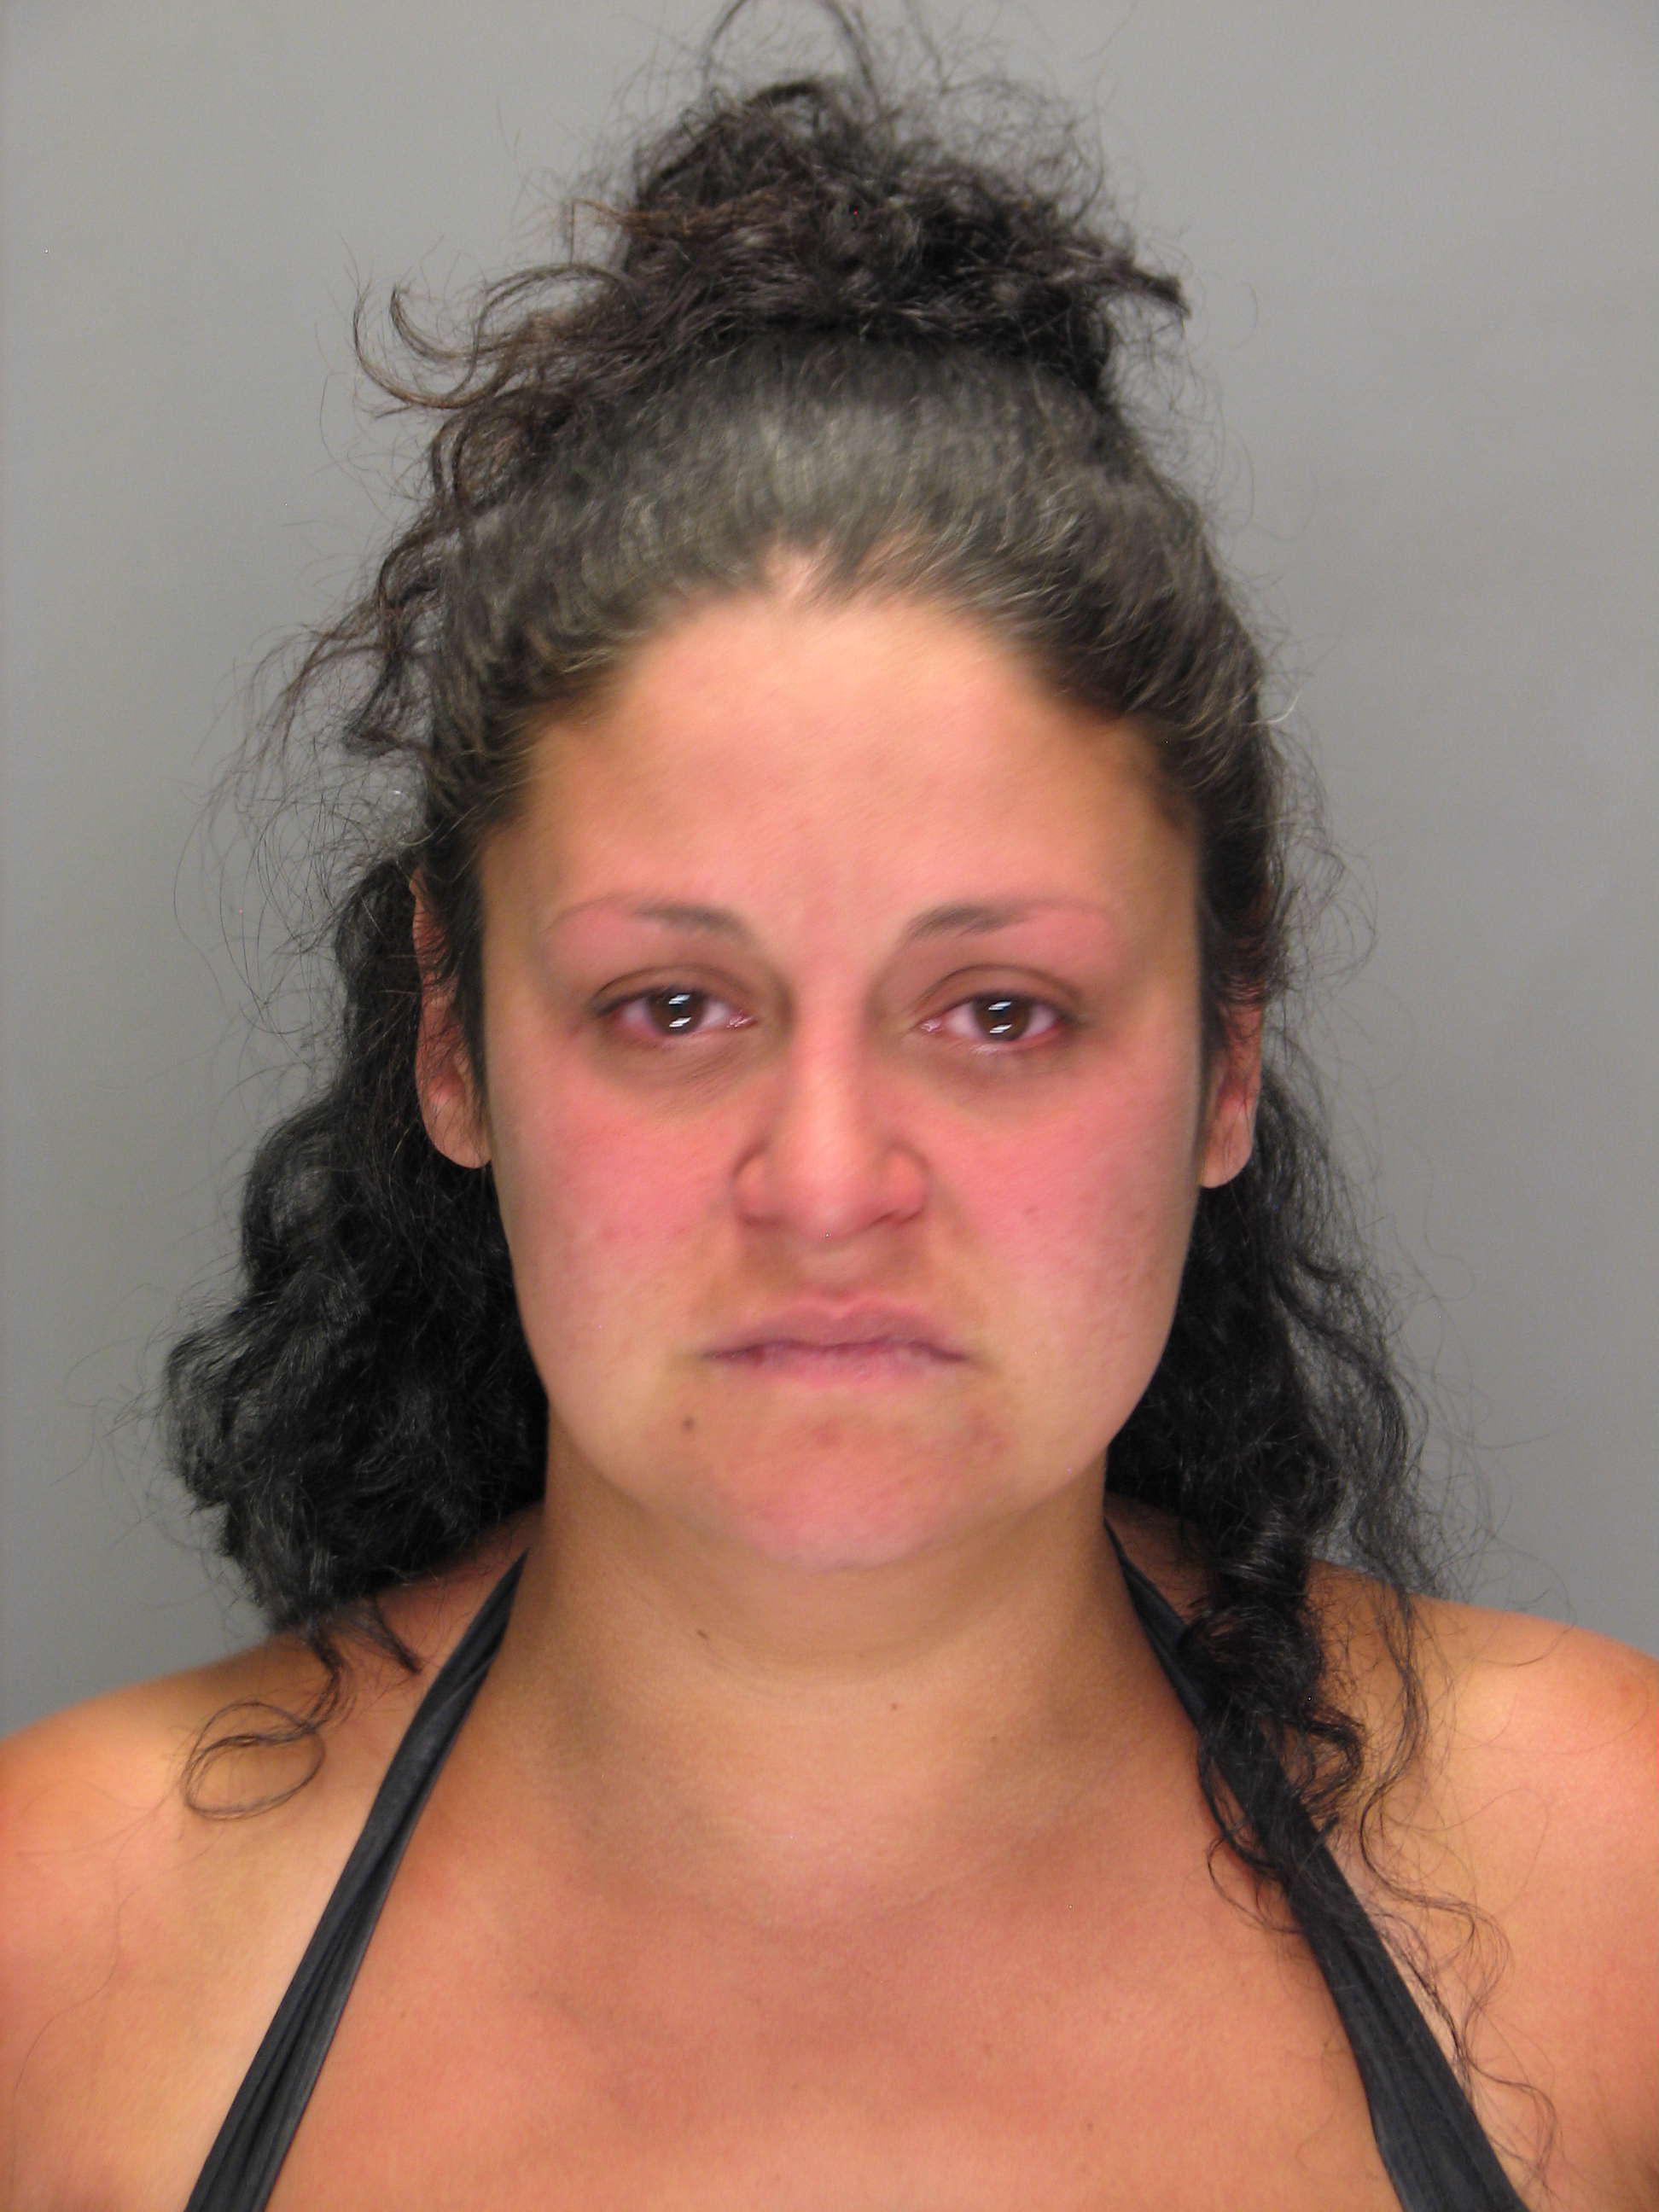Drunk: (479, 564, 1199, 1526)
